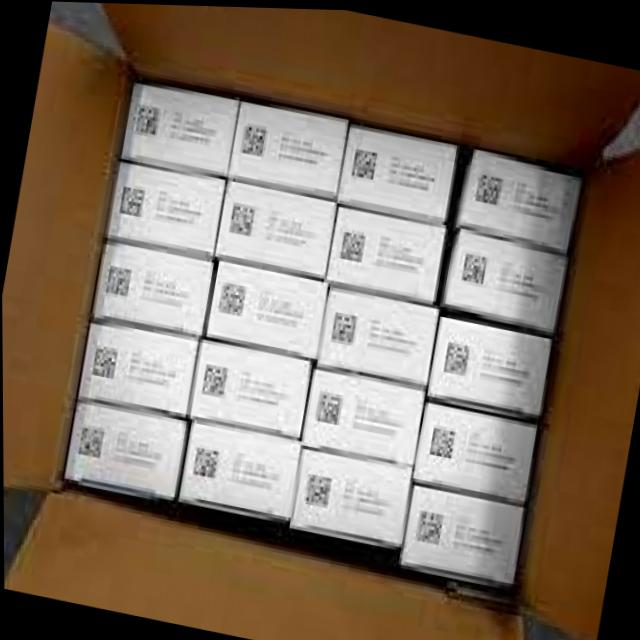datamatrix: (325, 304, 365, 349), (469, 164, 508, 210), (214, 274, 250, 323), (311, 382, 347, 431), (348, 140, 384, 185), (425, 419, 461, 464), (74, 421, 110, 465), (458, 244, 491, 289), (237, 118, 272, 160), (337, 223, 372, 265), (226, 198, 261, 240), (300, 469, 335, 511), (189, 440, 224, 482), (131, 97, 166, 138), (414, 505, 447, 547), (440, 336, 473, 377), (103, 258, 135, 300), (199, 360, 231, 401), (89, 341, 122, 380), (117, 182, 149, 221)
